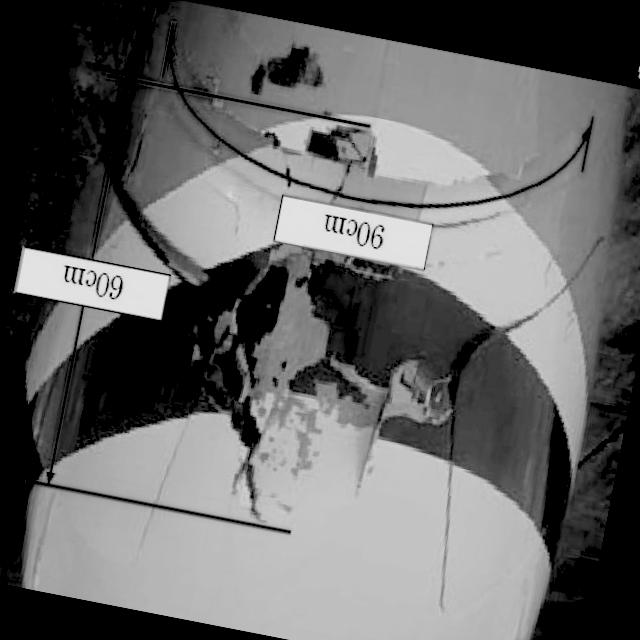crack: (56, 118, 338, 520), (399, 206, 603, 640), (343, 343, 418, 511)
